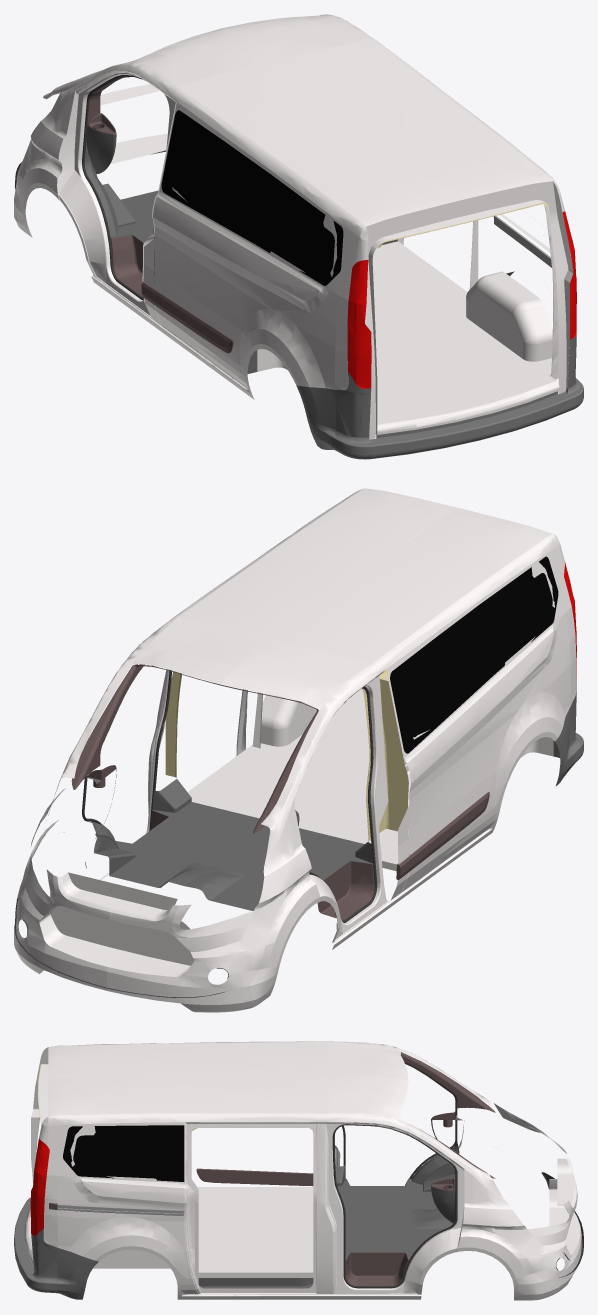
Rendered from transit.glb.
The picture shows the model from 3 angles, top to bottom: view 1: azimuth 30°, elevation 25°; view 2: azimuth 150°, elevation 25°; view 3: azimuth 270°, elevation 25°; orthographic projection. The views are drawn at different scales.
Visible parts, largest first — view 1: van; view 2: van; view 3: van.
Part boxes in pixels (<box>): van: <box>14,14,583,459</box>; van: <box>14,488,583,1012</box>; van: <box>14,1041,583,1300</box>.
Bounding box in the file's own units: 2.01 × 1.75 × 4.97.
